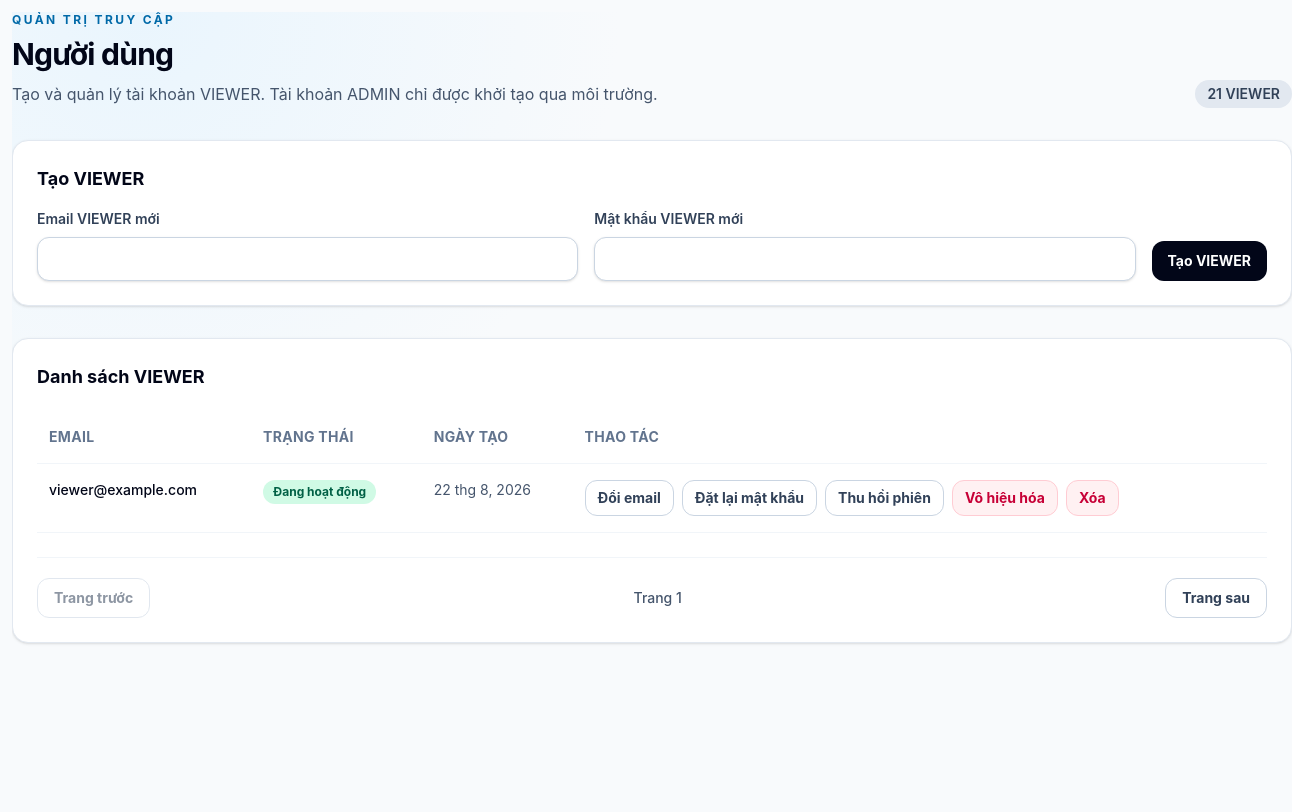
Test: UsersScreen › renders empty state and server pagination boundaries
Expected: the text "viewer@example.com" is shown, [37,464,251,533]
Expected: the button "Trang trước" is disabled, [37,578,150,618]
Click the button "Trang sau".
click(1216, 598)  # box [1165,578,1267,618]
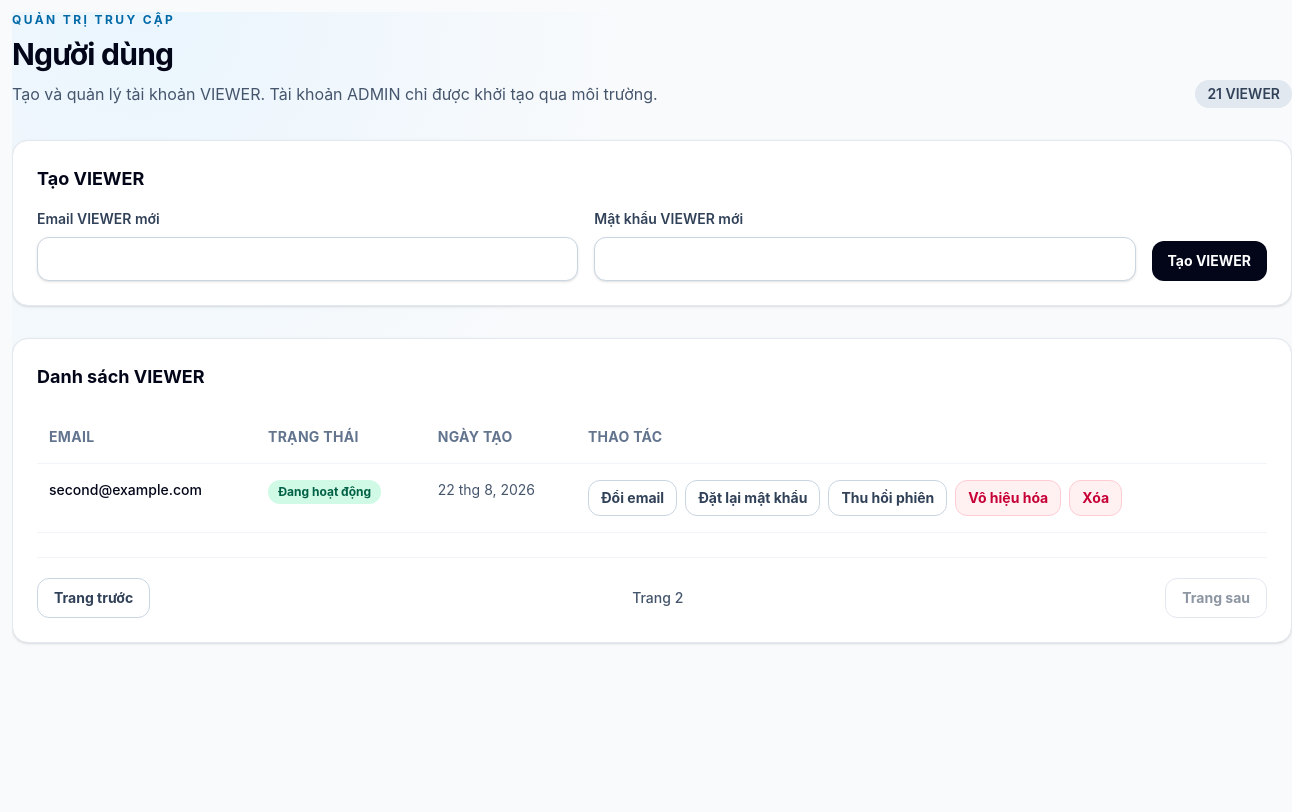
Expected: the text "second@example.com" is shown, [37,464,256,533]
Click the button "Trang trước".
click(94, 598)  # box [37,578,150,618]
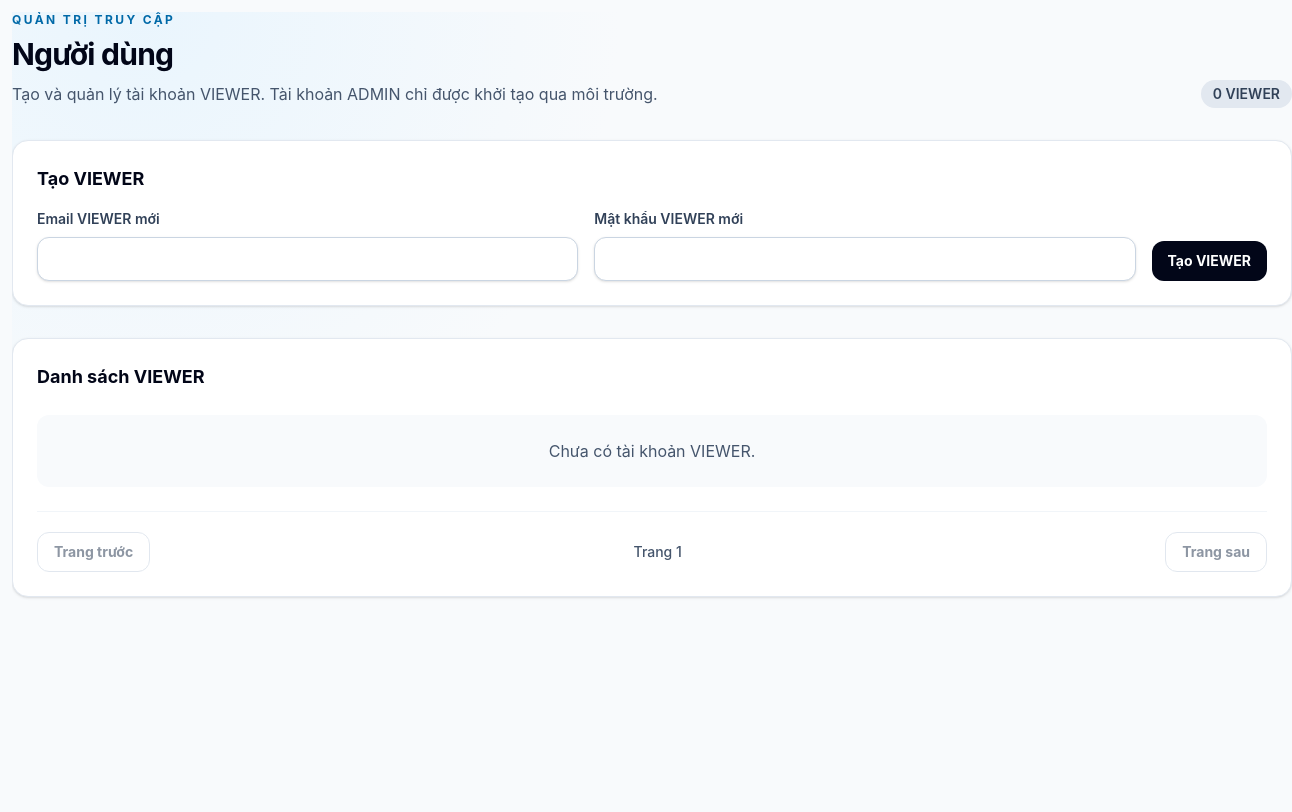
Expected: the button "Trang sau" is disabled, [1165,532,1267,572]
Expected: the text "Chưa có tài khoản VIEWER." is shown, [37,415,1267,487]
